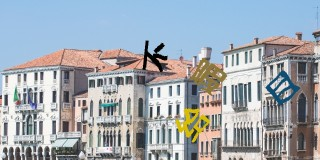不: (141, 39, 168, 72)
暇: (190, 58, 227, 96)
目: (265, 70, 300, 106)
给: (175, 107, 210, 143)
